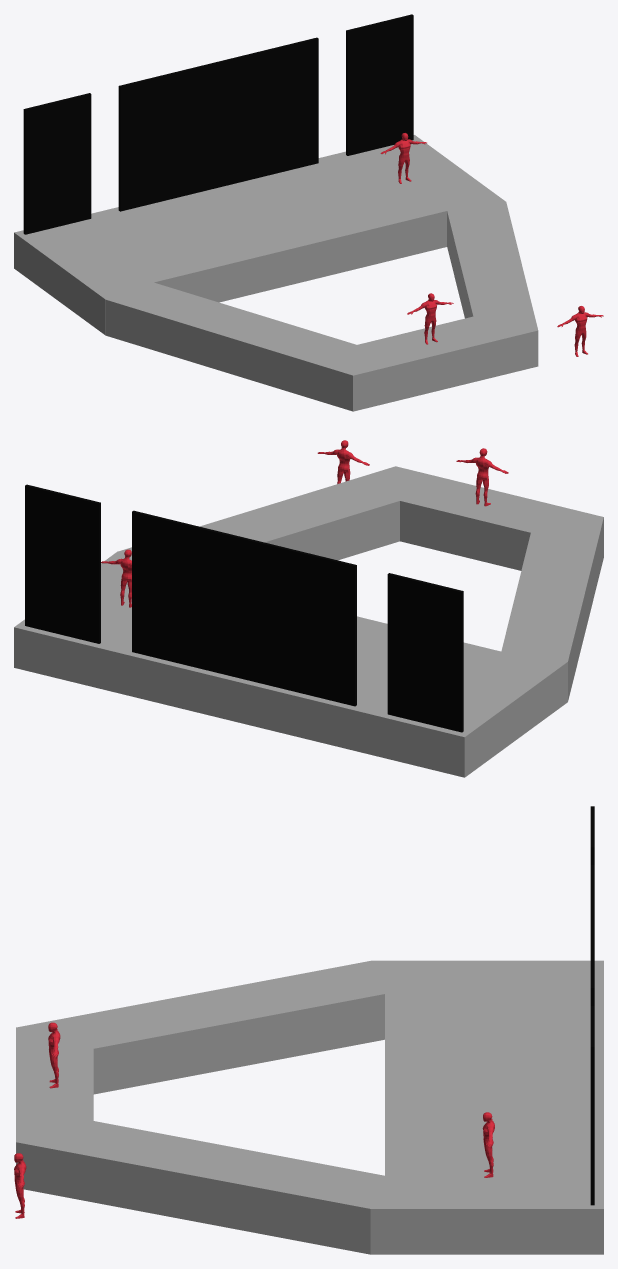
3 views of the same model, one above another, from view 1: azimuth 30°, elevation 25°; view 2: azimuth 150°, elevation 25°; view 3: azimuth 270°, elevation 25° (orthographic). The views are drawn at different scales.
Visible parts, largest first — view 1: Sàn (×2), LED main, Catwalk2, Cube.002, Catwalk1, Cube.001, Cube.003, Cube.004, 1.001, 1, 1.002; view 2: Sàn (×2), LED main, Catwalk2, Cube.002, Cube.001, Catwalk1, Cube.003, Cube.004, 1.002, 1, 1.001; view 3: Sàn (×2), Catwalk1, Catwalk2, Cube.004, Cube.003, Cube.001, LED main.
Boxes of the visible parts, bbox=[...] form: Sàn (×2): bbox=[42, 145, 538, 411]; LED main: bbox=[118, 37, 318, 211]; Catwalk2: bbox=[106, 282, 388, 411]; Cube.002: bbox=[23, 93, 91, 234]; Catwalk1: bbox=[447, 202, 537, 332]; Cube.001: bbox=[346, 14, 413, 155]; Cube.003: bbox=[14, 230, 157, 335]; Cube.004: bbox=[409, 135, 505, 214]; 1.001: bbox=[380, 133, 426, 183]; 1: bbox=[557, 306, 603, 356]; 1.002: bbox=[407, 293, 453, 344]; Sàn (×2): bbox=[40, 466, 603, 762]; LED main: bbox=[132, 510, 356, 706]; Catwalk2: bbox=[500, 514, 603, 700]; Cube.002: bbox=[387, 573, 463, 732]; Cube.001: bbox=[25, 484, 100, 643]; Catwalk1: bbox=[117, 466, 435, 560]; Cube.003: bbox=[405, 648, 567, 777]; Cube.004: bbox=[14, 552, 131, 682]; 1.002: bbox=[456, 448, 508, 506]; 1: bbox=[317, 440, 369, 483]; 1.001: bbox=[101, 549, 131, 607]; Sàn (×2): bbox=[16, 975, 603, 1176]; Catwalk1: bbox=[16, 1112, 400, 1254]; Catwalk2: bbox=[16, 961, 401, 1094]; Cube.004: bbox=[371, 1176, 603, 1254]; Cube.003: bbox=[371, 960, 603, 993]; Cube.001: bbox=[590, 1006, 594, 1205]; LED main: bbox=[590, 865, 594, 1005].
Size of what is drawn, in the model's own units: 15.14 by 5.8 by 15.2.
